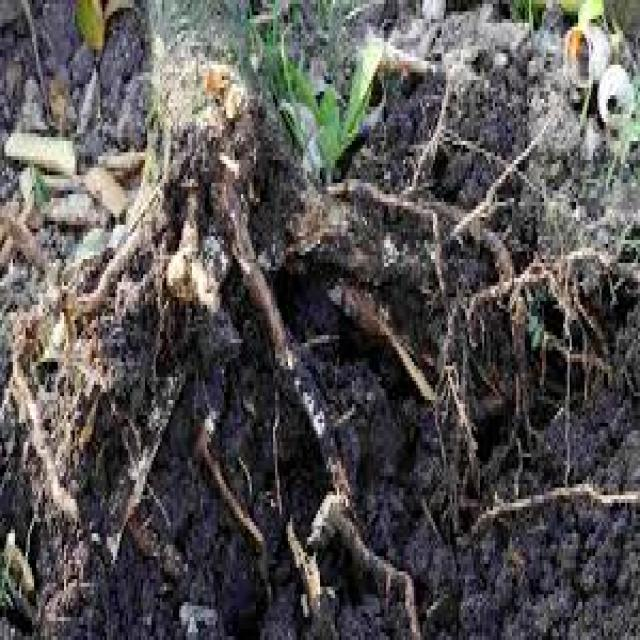root_rot: (41, 26, 572, 607)
